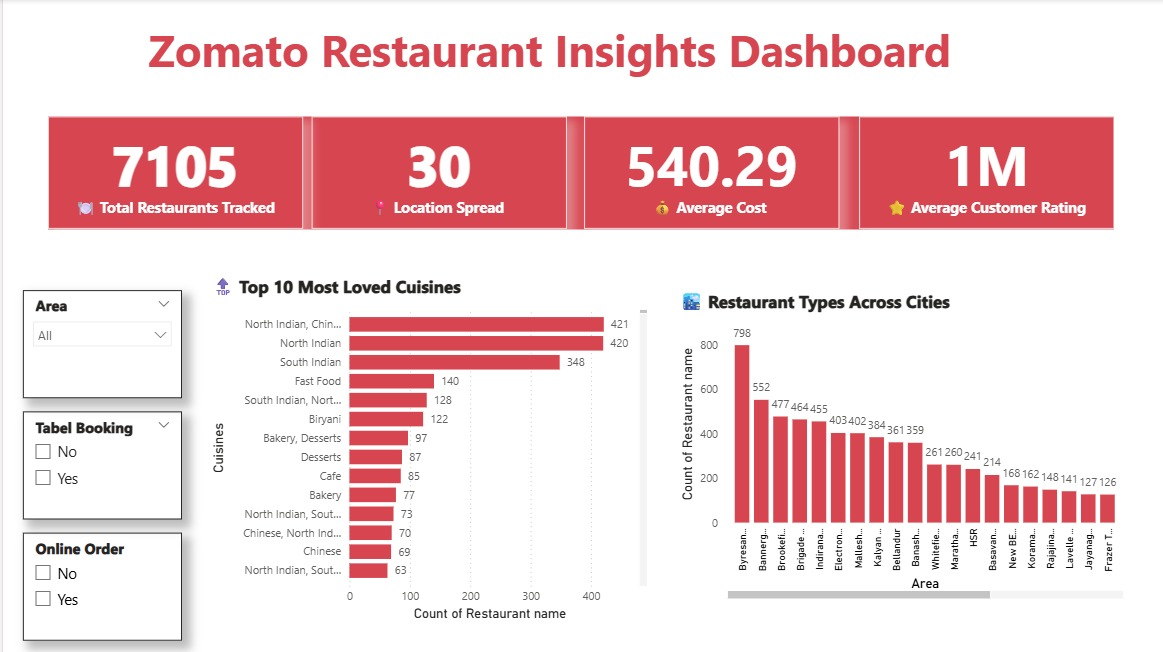

The page's visual inventory and layout, read from the dashboard file:
{"tool":"powerbi","page":{"name":"Page 1","canvas":[1280,720],"ordinal":0},"visuals":[{"type":"card","fields":{"Values":["CountNonNull(zomato.Restaurant name)"]},"box":[49.4,129,279.9,123.5],"z":0,"group":"g1"},{"type":"group","id":"g1","title":"Group 1","box":[49.4,129,1170.5,123.5],"z":0},{"type":"card","fields":{"Values":["Count(zomato.Area)"]},"box":[338.9,129,279.9,123.5],"z":1000,"group":"g1"},{"type":"barChart","title":"🔝 Top 10 Most Loved Cuisines","fields":{"Category":["zomato.Cuisines"],"Y":["CountNonNull(zomato.Restaurant name)"]},"box":[223.7,303.3,488.5,384.2],"z":1000},{"type":"card","fields":{"Values":["Avg(zomato.Average Cost for Two)"]},"box":[638.1,129,279.9,123.5],"z":2000,"group":"g1"},{"type":"slicer","fields":{"Values":["zomato.Area"]},"box":[22,319.7,174.3,118],"z":2000},{"type":"card","fields":{"Values":["Sum(zomato.Number of Ratings)"]},"box":[940,129,279.9,123.5],"z":3000,"group":"g1"},{"type":"clusteredColumnChart","title":"🏙️ Restaurant Types Across Cities","fields":{"Category":["zomato.Area"],"Y":["CountNonNull(zomato.Restaurant name)"]},"box":[738.3,319.7,496.7,343.1],"z":3000},{"type":"slicer","fields":{"Values":["zomato.Online Order"]},"box":[22,585.9,174.3,118],"z":4000},{"type":"slicer","fields":{"Values":["zomato.Tabel Booking"]},"box":[22,452.8,174.3,118],"z":5000},{"type":"textbox","box":[22,0,1226.8,109.8],"z":6000}]}

Visuals, with their boxes in screenshot pixels (x1, y1, x2, y2), scaled from the page's 1280x720 canvas onto the 1163x652 screenshot:
card - CountNonNull(zomato.Restaurant name): select_region(45, 117, 299, 229)
"Group 1" group: select_region(45, 117, 1108, 229)
card - Count(zomato.Area): select_region(308, 117, 562, 229)
"🔝 Top 10 Most Loved Cuisines" barChart: select_region(203, 275, 647, 623)
card - Avg(zomato.Average Cost for Two): select_region(580, 117, 834, 229)
slicer - zomato.Area: select_region(20, 290, 178, 396)
card - Sum(zomato.Number of Ratings): select_region(854, 117, 1108, 229)
"🏙️ Restaurant Types Across Cities" clusteredColumnChart: select_region(671, 290, 1122, 600)
slicer - zomato.Online Order: select_region(20, 531, 178, 637)
slicer - zomato.Tabel Booking: select_region(20, 410, 178, 517)
textbox: select_region(20, 0, 1135, 99)
